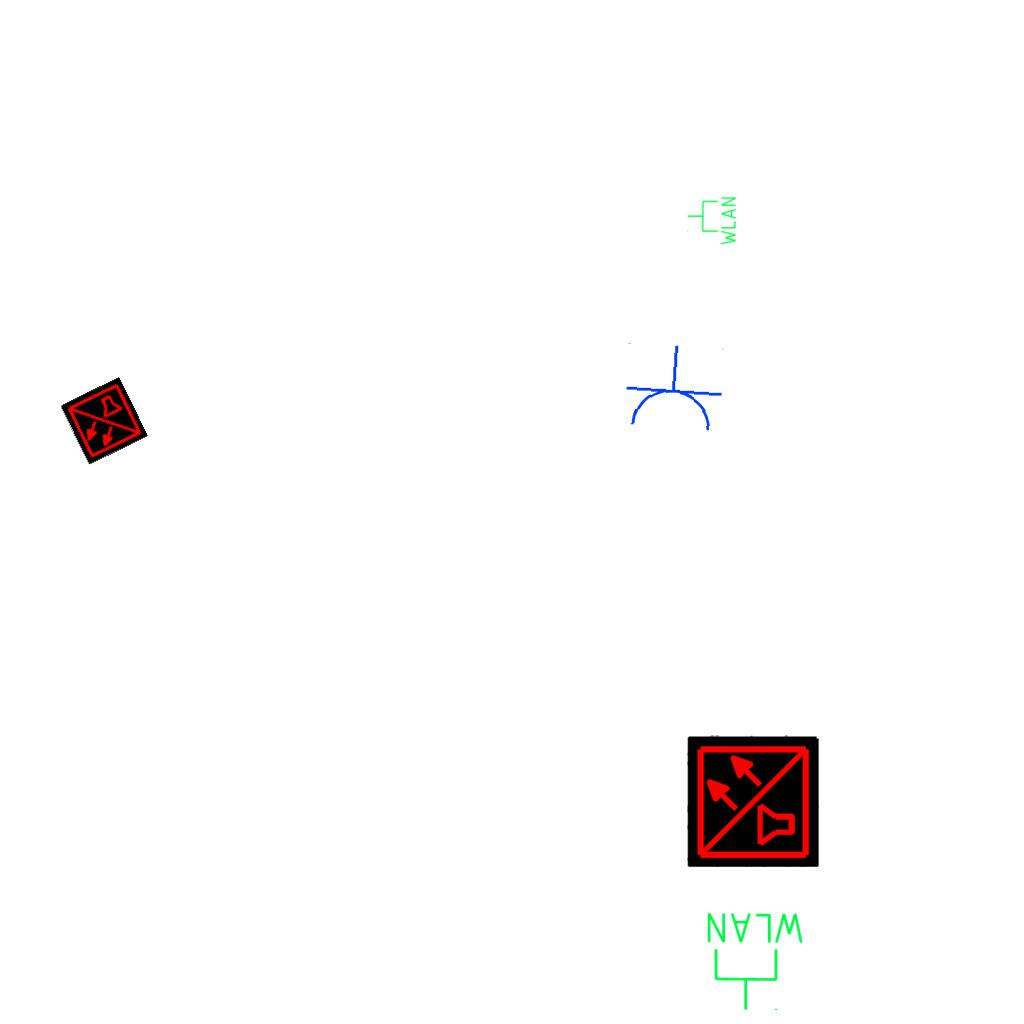OKW_Multisensormelder_(Kombination_optischer_Rauch-Kahlenmonoxid_Waerme-Melder): (687, 735, 819, 867), (59, 376, 149, 466)
Schukosteckdose_einfach: (620, 341, 726, 436)
WLAN: (703, 909, 808, 1013), (686, 195, 738, 247)
